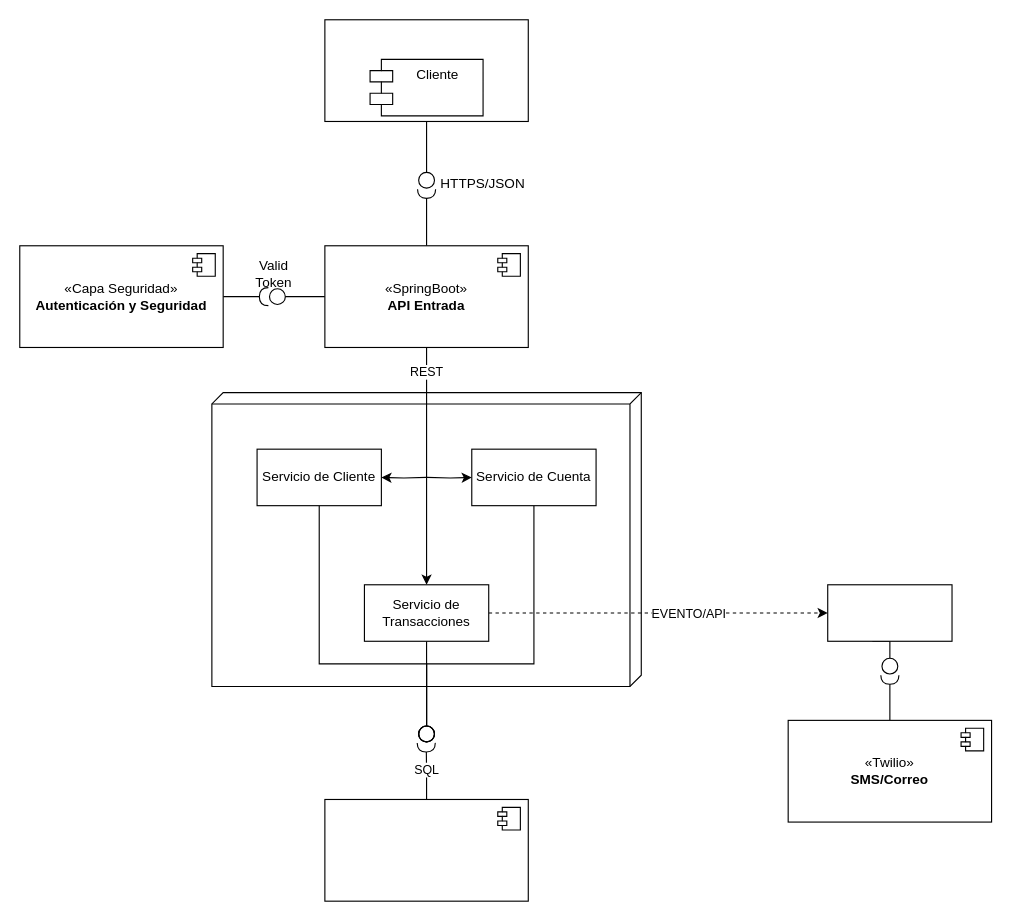
Some shapes in this 1011 by 921 pixel diagram are drawn without their labels. Here are the shapes that lost their labels. From the top down, the box of each, then its label:
(324, 19, 528, 121): Frontend
(211, 392, 641, 686): Backend
(827, 584, 952, 641): Servicio de notificacoones
(324, 798, 528, 901): «PostgreSQL» Base de Datos
